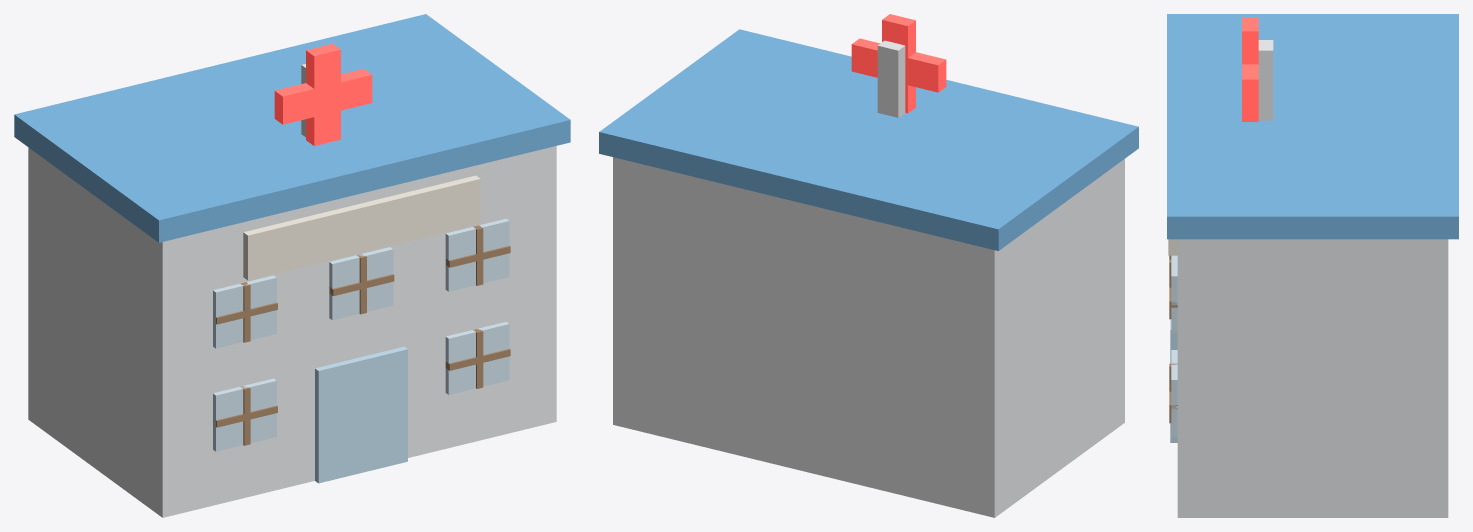
Rendered from rumah_sakit.glb.
The picture shows the model from 3 angles, left to right: view 1: azimuth 30°, elevation 25°; view 2: azimuth 150°, elevation 25°; view 3: azimuth 270°, elevation 25°; orthographic projection. The views are drawn at different scales.
Visible parts, largest first — view 1: rumah_sakit; view 2: rumah_sakit; view 3: rumah_sakit.
Boxes of the visible parts, x1,y1,x2,y2 form: rumah_sakit: [14, 14, 570, 517]; rumah_sakit: [599, 14, 1138, 517]; rumah_sakit: [1167, 14, 1458, 517].
Size of the model in its own units: 2.3 by 2.1 by 1.4.
